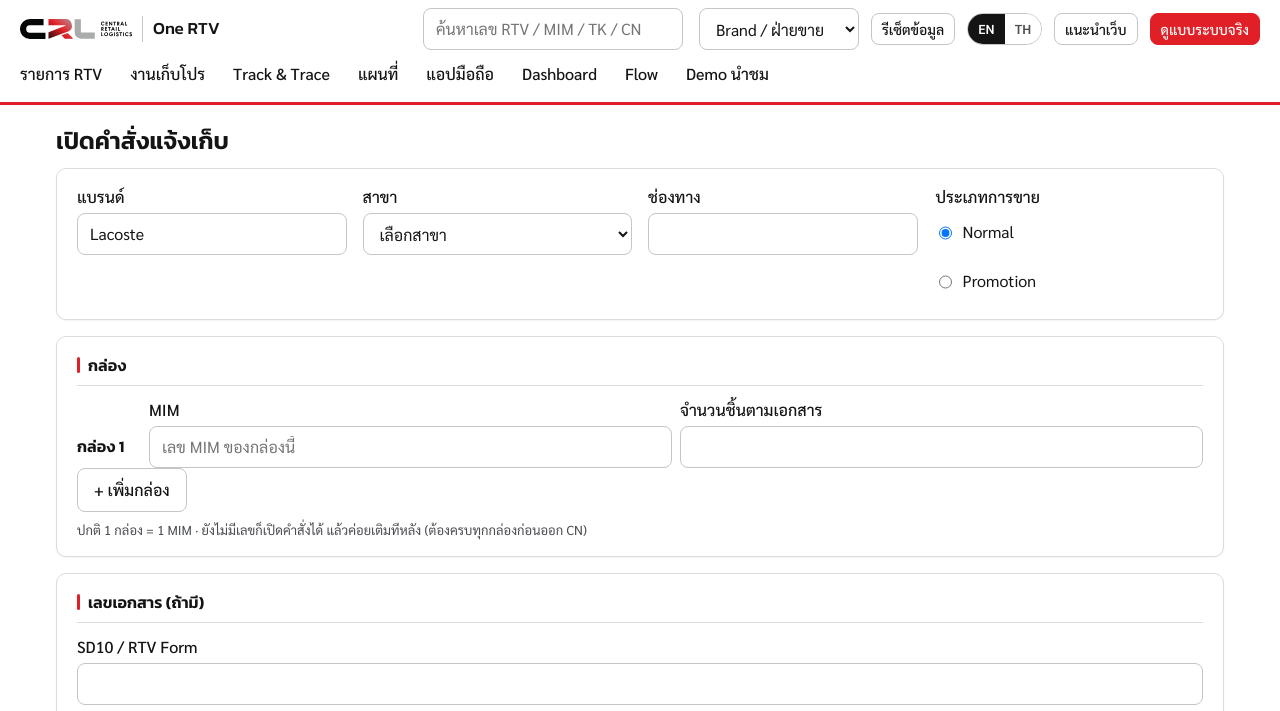
Test: brand opens a consign order and gets a number at step 2 (auto)
This screenshot has width=1280, height=711.
Select "สาขาตัวอย่าง พระราม 9 (Consign)" in the dropdown labelled "สาขา" at coordinates (497, 234), box left=362, top=213, right=632, bottom=255
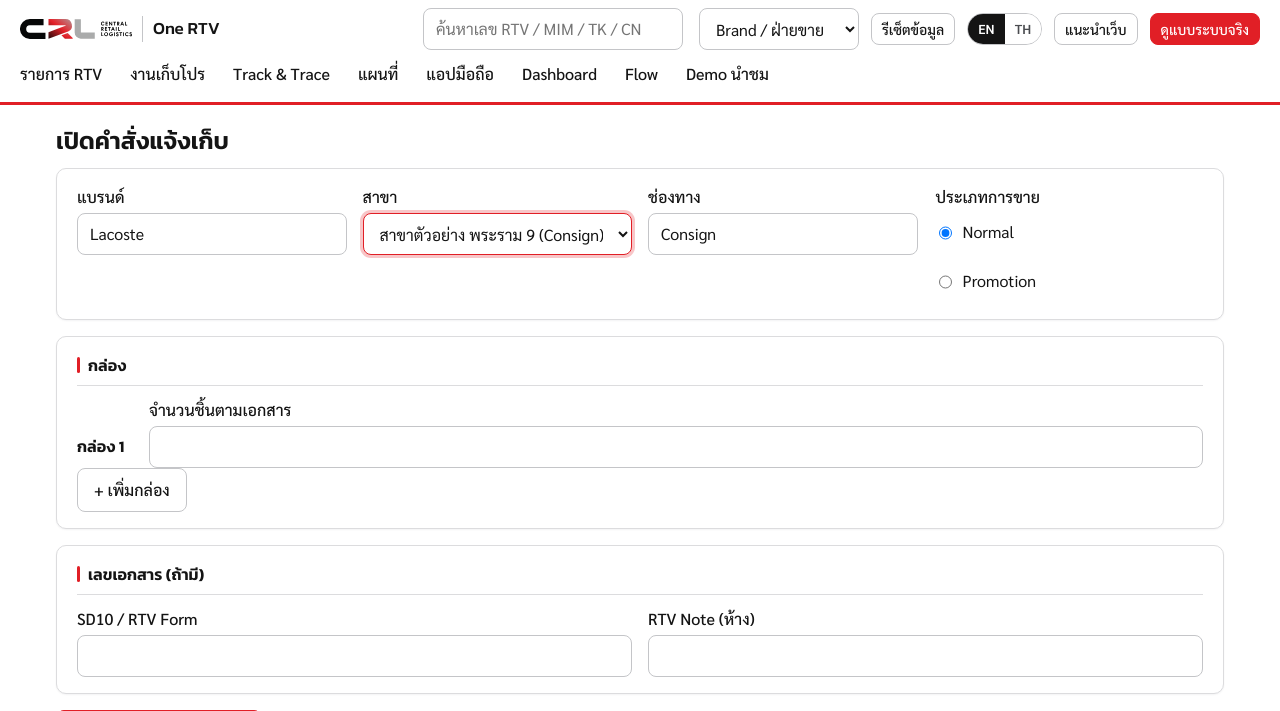
Expected: the field labelled "RTV Note (ห้าง)" is shown, left=648, top=635, right=1203, bottom=677
Result: the field labelled "ช่องทาง" holds "Consign" at left=648, top=213, right=918, bottom=255
Type "10" into the number field named "กล่อง 1: จำนวนชิ้นตามเอกสาร" at coordinates (676, 447), box left=149, top=426, right=1203, bottom=468
(page scrolled)
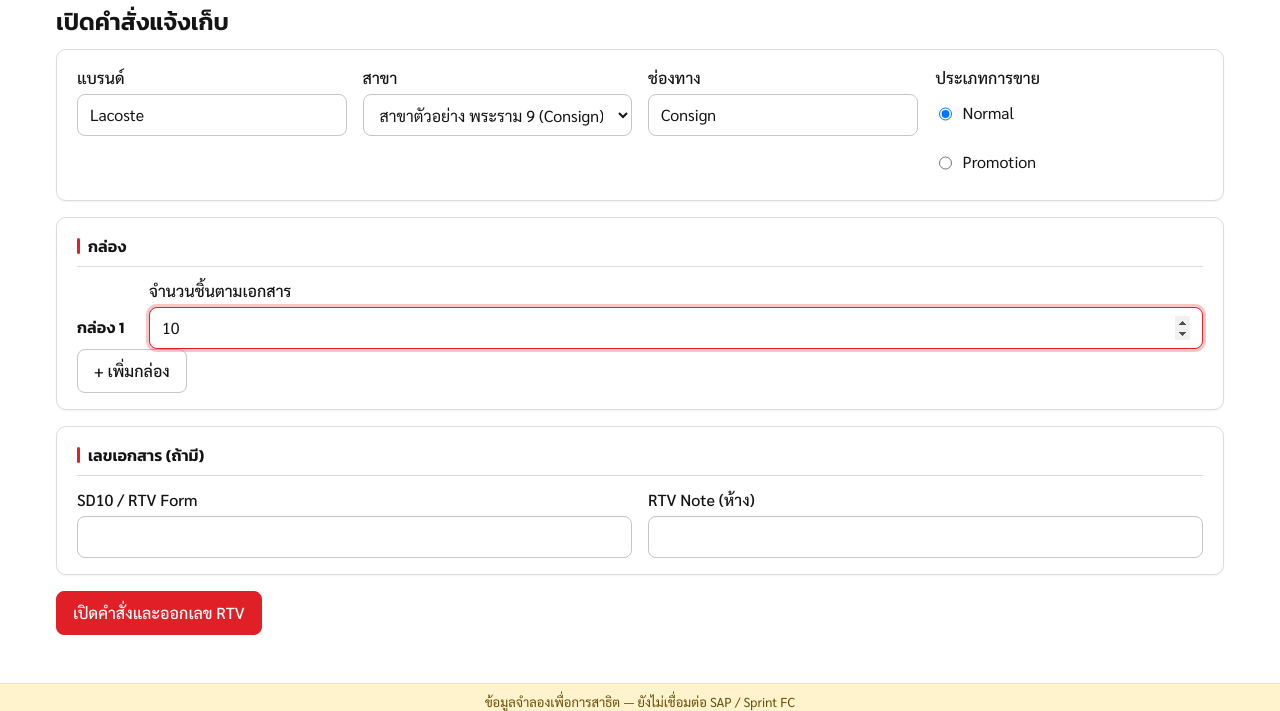
Click the button "เปิดคำสั่งและออกเลข RTV" at coordinates (159, 613), box left=56, top=591, right=262, bottom=635
(page scrolled)
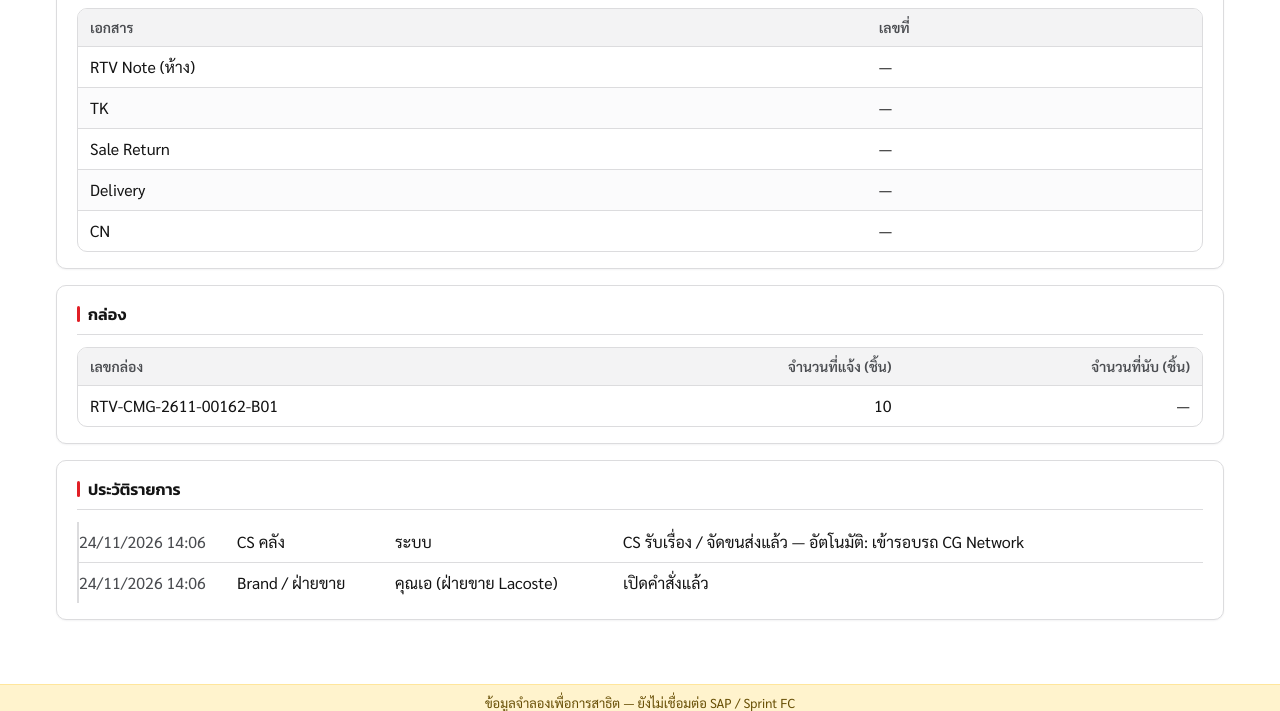
Result: the text "อัตโนมัติ: เข้ารอบรถ CG Network" is shown at left=623, top=531, right=1024, bottom=552
